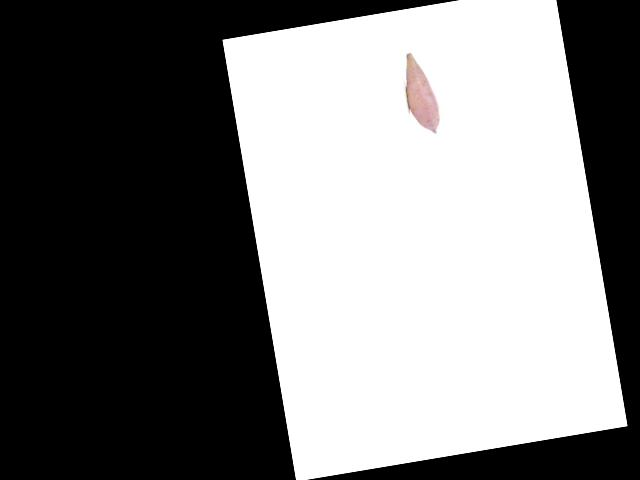sweet_potato: (401, 50, 442, 137)
